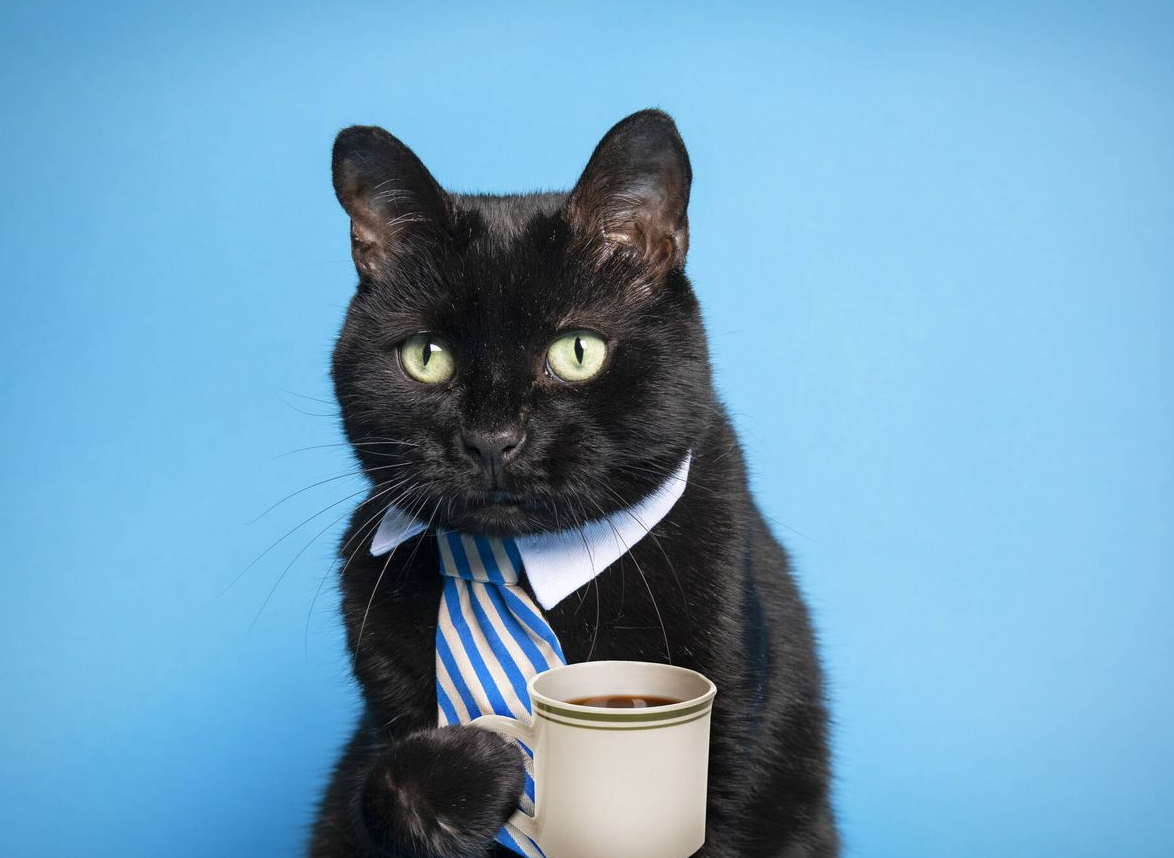gato: (261, 95, 848, 858)
